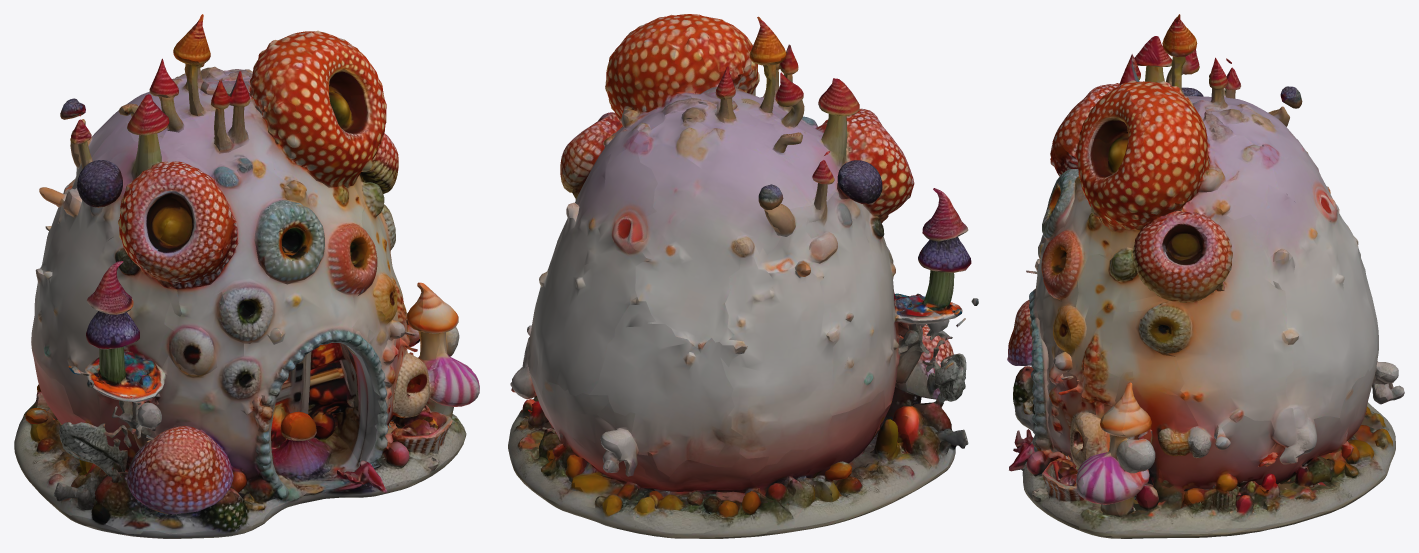
The model's file is statue_textured.glb.
3 renders of one model, left to right at view 1: azimuth 30°, elevation 25°; view 2: azimuth 150°, elevation 25°; view 3: azimuth 270°, elevation 25°, orthographic. The views are drawn at different scales.
Visible parts, largest first — view 1: Statue_Textured; view 2: Statue_Textured; view 3: Statue_Textured.
Part boxes in pixels (x1=…): Statue_Textured: x1=14, y1=14, x2=479, y2=538; Statue_Textured: x1=508, y1=14, x2=978, y2=538; Statue_Textured: x1=1007, y1=14, x2=1404, y2=538.
Size of the model in its own units: 1.93 by 1.98 by 1.69.
Materials: 1 (1 with a texture image).
